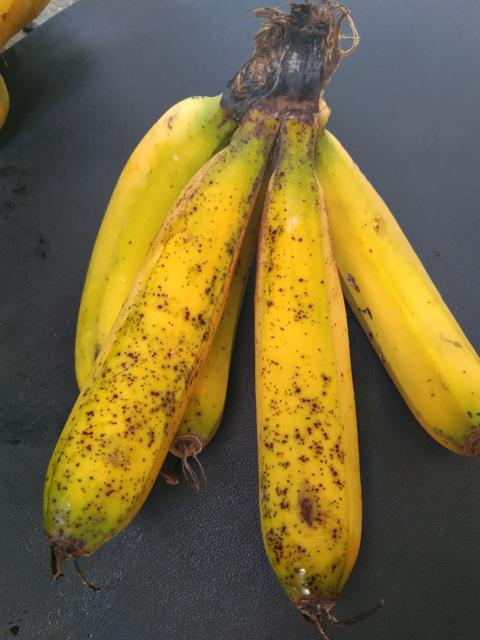ripe: (19, 145, 246, 542), (220, 154, 378, 633)
